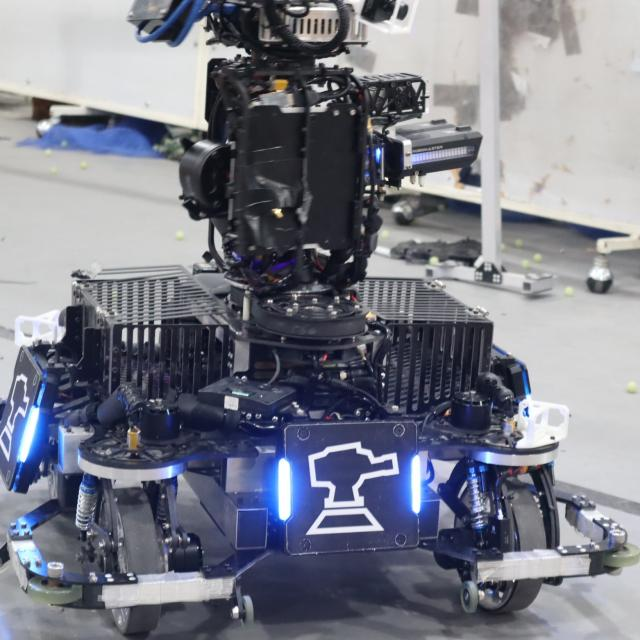Bs: (276, 418, 424, 554), (0, 341, 55, 498)
